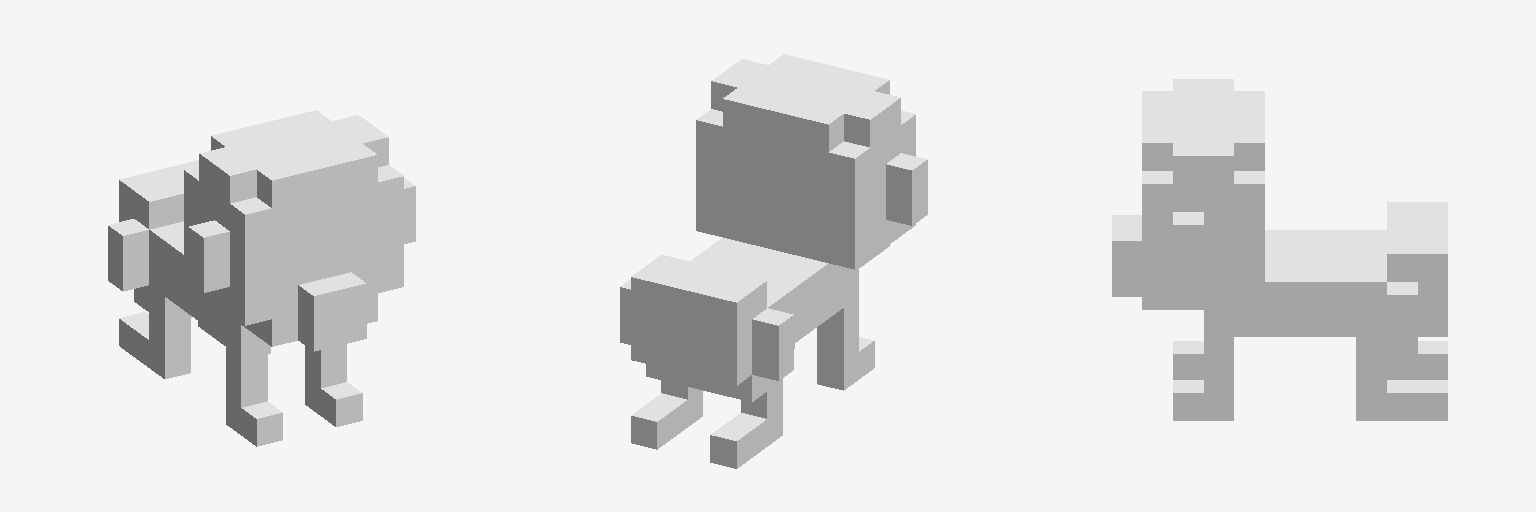
Rendered from chr_baby.obj.
3 views of the same model, side by side, from view 1: azimuth 30°, elevation 25°; view 2: azimuth 150°, elevation 25°; view 3: azimuth 270°, elevation 25° (orthographic).
Visible parts, largest first — view 1: chr_baby; view 2: chr_baby; view 3: chr_baby.
Boxes of the visible parts, x1,y1,x2,y2 form: chr_baby: [108, 110, 415, 446]; chr_baby: [620, 54, 927, 468]; chr_baby: [1112, 79, 1447, 420].
Size of the model in its own units: 8 by 10 by 11.